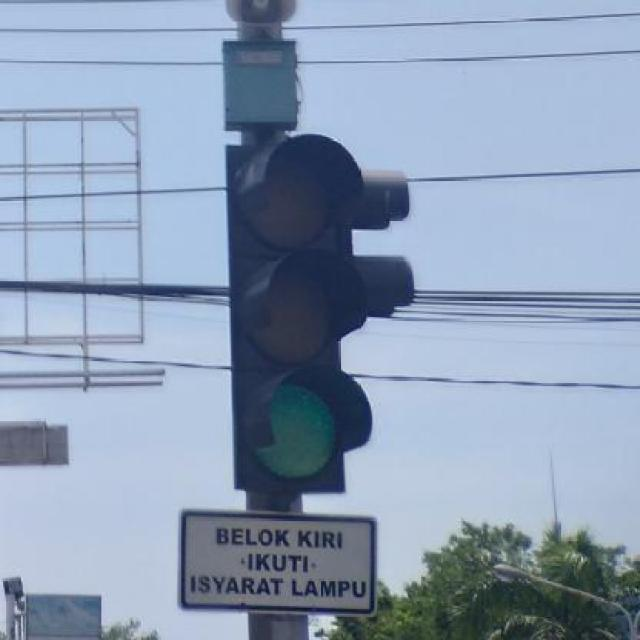traffic light: (227, 142, 357, 495)
